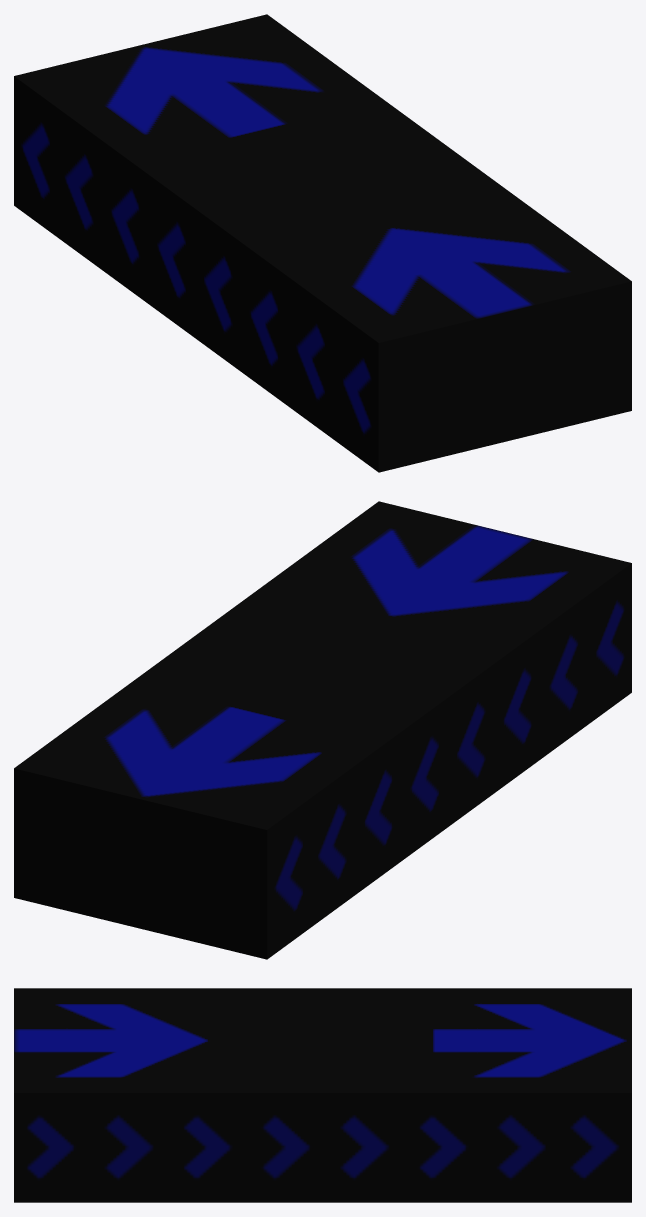
The model's file is Platf.fbx.
3 renders of one model, top to bottom at view 1: azimuth 30°, elevation 25°; view 2: azimuth 150°, elevation 25°; view 3: azimuth 270°, elevation 25°, orthographic. The views are drawn at different scales.
Visible parts, largest first — view 1: pCube2; view 2: pCube2; view 3: pCube2.
Boxes of the visible parts, <box> form: pCube2: <box>14,14,631,472</box>; pCube2: <box>14,501,631,959</box>; pCube2: <box>14,988,631,1202</box>.
Bounding box in the file's own units: 4 × 1.96 × 9.98.
